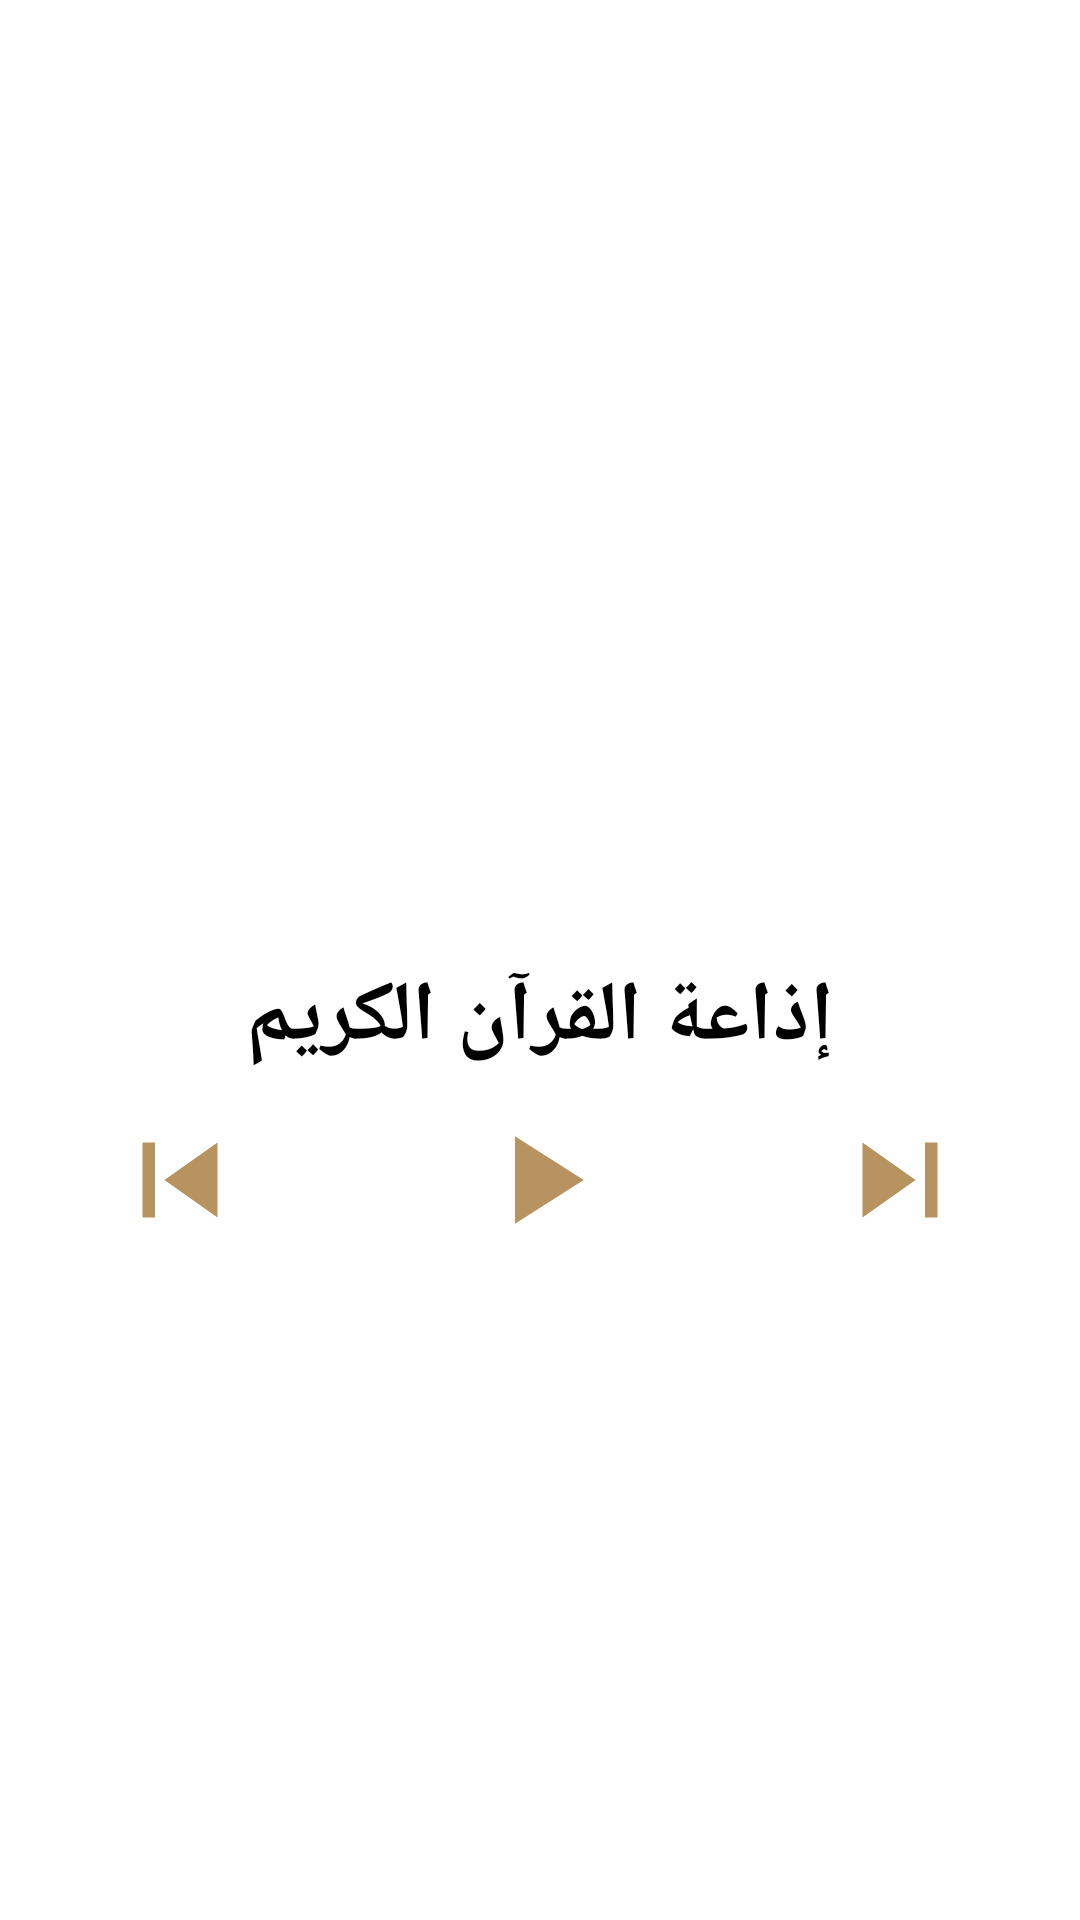

Icon click points for this 1080 x 1920 phone screenshot, format (x,y):
play arrow: (549,1180)
skip next: (900,1180)
skip previous: (180,1180)
